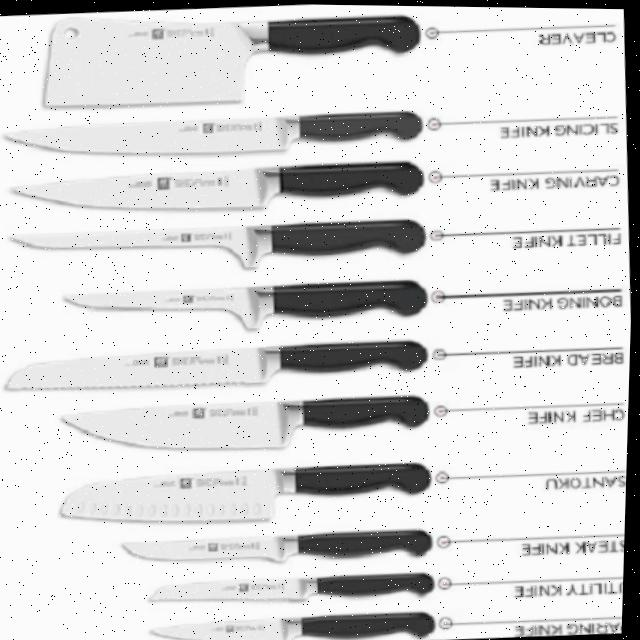knife: (35, 0, 425, 116), (6, 148, 422, 226), (61, 452, 434, 538), (0, 94, 421, 170), (6, 205, 426, 281), (4, 330, 429, 403), (59, 384, 428, 462), (59, 267, 431, 338), (119, 521, 432, 572), (150, 565, 432, 611), (147, 598, 437, 640)
